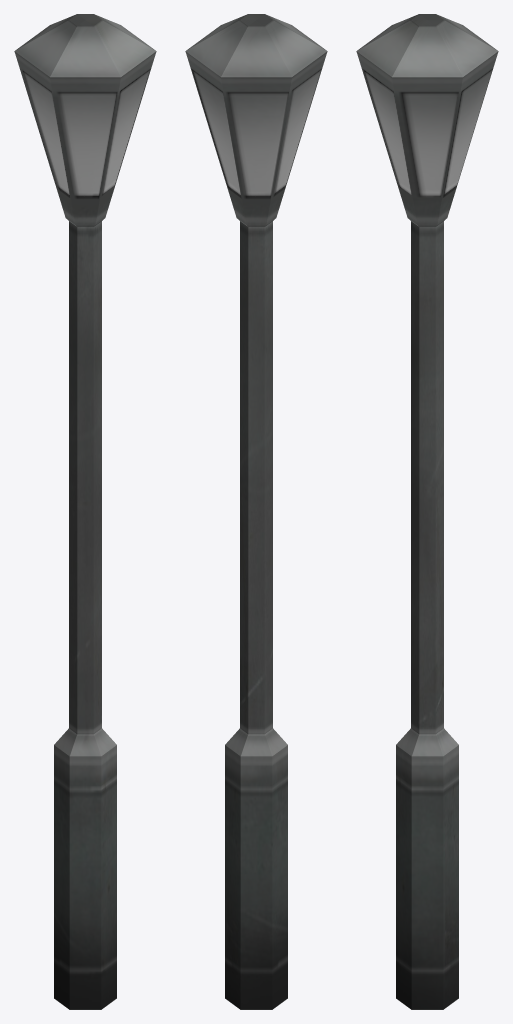
File: PFB-Street-Decor-Pack-02-Street-Lamp-Old.fbx
The picture shows the model from 3 angles, left to right: view 1: azimuth 30°, elevation 25°; view 2: azimuth 150°, elevation 25°; view 3: azimuth 270°, elevation 25°; orthographic projection.
Parts seen in each view (by area): view 1: Street-Lamp-Old; view 2: Street-Lamp-Old; view 3: Street-Lamp-Old.
Boxes of the visible parts, bbox=[...] form: Street-Lamp-Old: bbox=[14, 14, 156, 1009]; Street-Lamp-Old: bbox=[185, 14, 327, 1009]; Street-Lamp-Old: bbox=[356, 14, 498, 1009].
Size of the model in its own units: 5.67 by 49.7 by 6.55.
